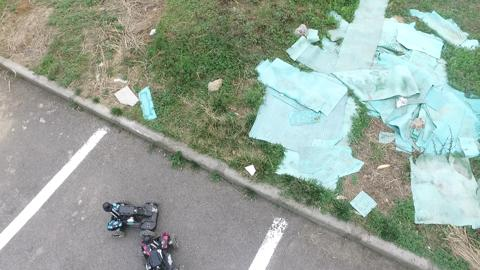chariot: (100, 195, 161, 235), (144, 226, 179, 270)
